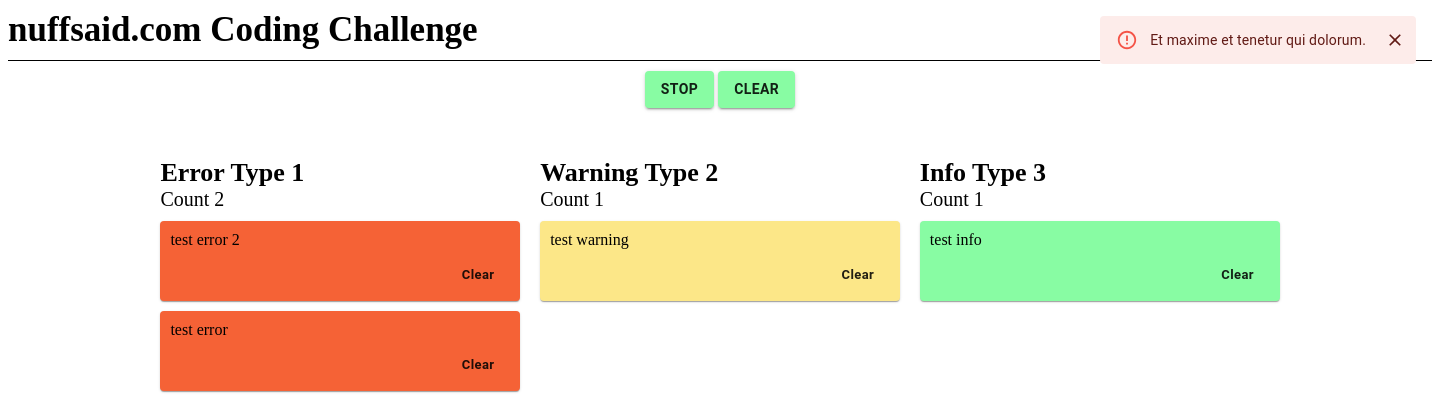
Test Messages container › Renders All messages
The width and height of the screenshot is (1440, 410).
Expected: the button with test id "button" reads "CLEAR", [718, 71, 795, 108]
Click the button with test id "button" showing "STOP" at (680, 89), box [645, 71, 714, 108]
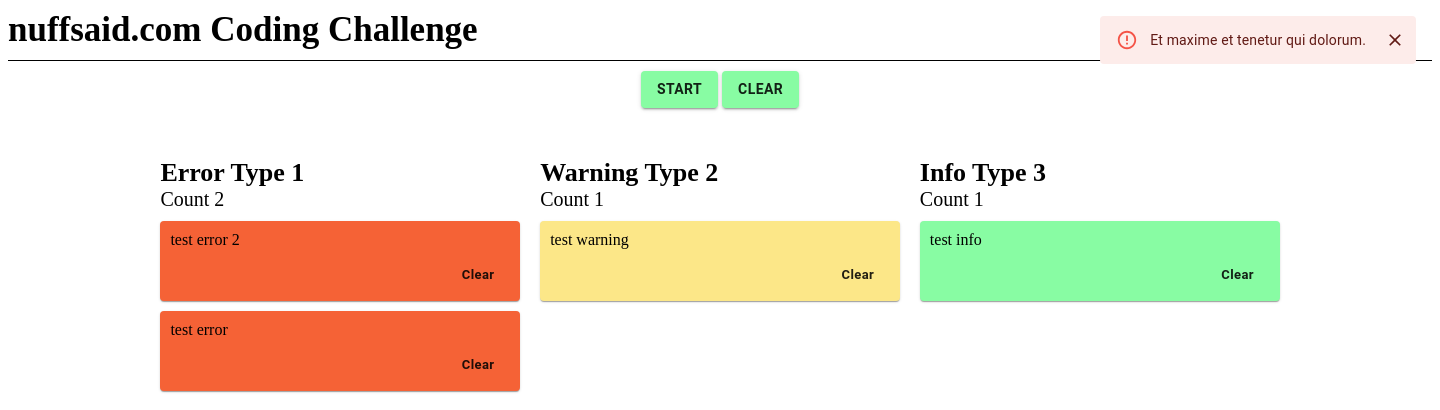
Now the button with test id "button" reads "START", box [641, 71, 718, 108]
